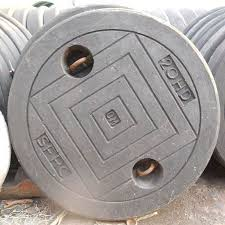manhole: (2, 6, 224, 225)
